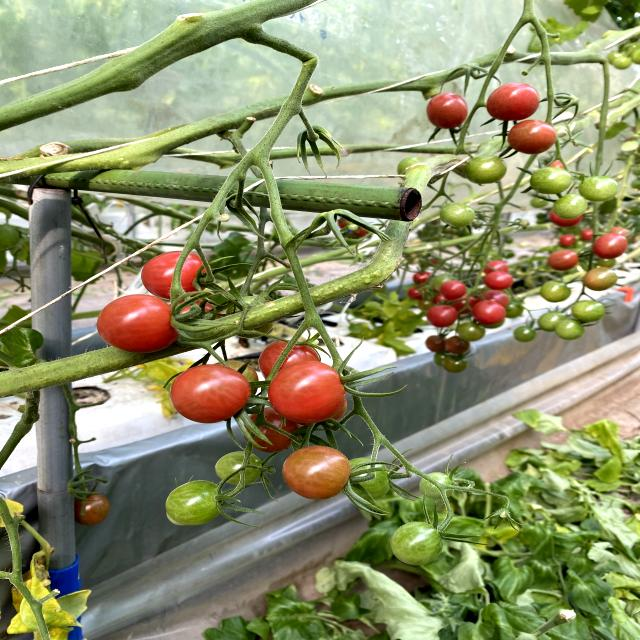ripe0: (166, 479, 227, 526), (389, 522, 446, 567), (215, 452, 264, 487), (530, 167, 571, 194), (467, 157, 507, 184), (580, 176, 620, 202), (552, 195, 589, 219), (442, 204, 476, 227), (572, 300, 607, 322), (536, 311, 562, 330)
ripe1: (583, 268, 618, 291)
ripe2: (96, 294, 181, 353), (268, 362, 346, 424), (170, 364, 251, 423), (283, 445, 350, 501), (141, 251, 211, 294), (486, 82, 540, 121), (507, 121, 558, 155), (427, 92, 468, 130), (594, 233, 628, 259), (472, 301, 506, 325), (428, 304, 458, 327), (548, 249, 579, 271), (486, 271, 513, 289)
